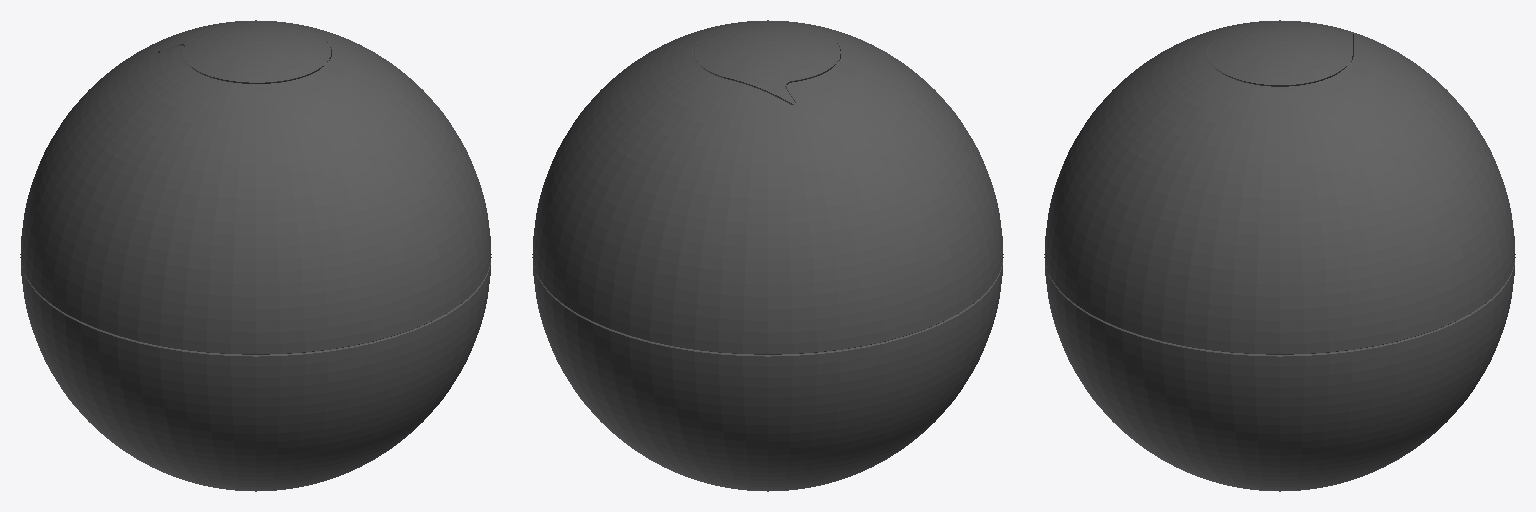
robot.urdf — sphero:
<?xml version="1.0"?>

<robot name="sphero"
       xmlns:sensor="http://playerstage.sourceforge.net/gazebo/xmlschema/#sensor"
       xmlns:controller="http://playerstage.sourceforge.net/gazebo/xmlschema/#controller"
       xmlns:interface="http://playerstage.sourceforge.net/gazebo/xmlschema/#interface"
       xmlns:xacro="http://ros.org/wiki/xacro">

  <property name="M_PI" value="3.14159"/>
  <property name="SCALE" value="0.0254"/>

  <link name="base_footprint">
    <inertial>
      <mass value="0.0" />
      <origin xyz="0 0 0" />
      <inertia ixx="0.0" ixy="0.0" ixz="0.0"
         iyy="0.0" iyz="0.0" izz="0.0" />
    </inertial>

    <collision>
      <origin xyz="0 0 0.017" rpy="0 0 0" />
      <geometry>
       <box size="0.001 0.001 0.001" />
      </geometry>
    </collision>
  </link>

<link name="base_link">
    <inertial>
      <mass value="0.5" />
      <origin xyz="0 0 0.0" />
      <inertia ixx="0.01" ixy="0.0" ixz="0.0"
        iyy="0.01" iyz="0.0" izz="0.01" />
    </inertial>

    <visual>
      <origin xyz=" 0 0 0" rpy="0 0 0" />
      <geometry>
	<mesh filename="package://sphero_description/meshes/Sphero.dae" scale=" 0.0254 0.0254 0.0254"/>
      </geometry>
    </visual>

    <collision>
      <origin xyz="0.0 0.0 0.0" rpy="0 0 0" />
      <geometry>
        <sphere radius="0.04"/>
      </geometry>
    </collision>
  </link>

  <joint name="base_footprint_joint" type="fixed">
    <origin xyz="0 0 0.02" rpy="0 0 0" />
    <parent link="base_footprint"/>
    <child link="base_link" />
  </joint>


</robot>

--- What the picture shows (computed from the rendered views, not written in the file) ---
The picture shows the robot from 3 angles, left to right: view 1: azimuth 30°, elevation 25°; view 2: azimuth 150°, elevation 25°; view 3: azimuth 270°, elevation 25°; orthographic projection.
Robot: sphero — 2 links, 1 joints (1 fixed); root link base_footprint; default pose: all joints at 0.
Links seen in each view (by area): view 1: base_link; view 2: base_link; view 3: base_link.
Link boxes in pixels (x1,y1,x2,y2): base_link: (20, 20, 491, 491); base_link: (532, 20, 1003, 491); base_link: (1044, 20, 1515, 491).
Bounding box of the posed robot: 0.0015 × 0.0015 × 0.0015 m (x, y, z).
1 mesh visuals loaded from 1 distinct referenced files (1 Collada DAE).